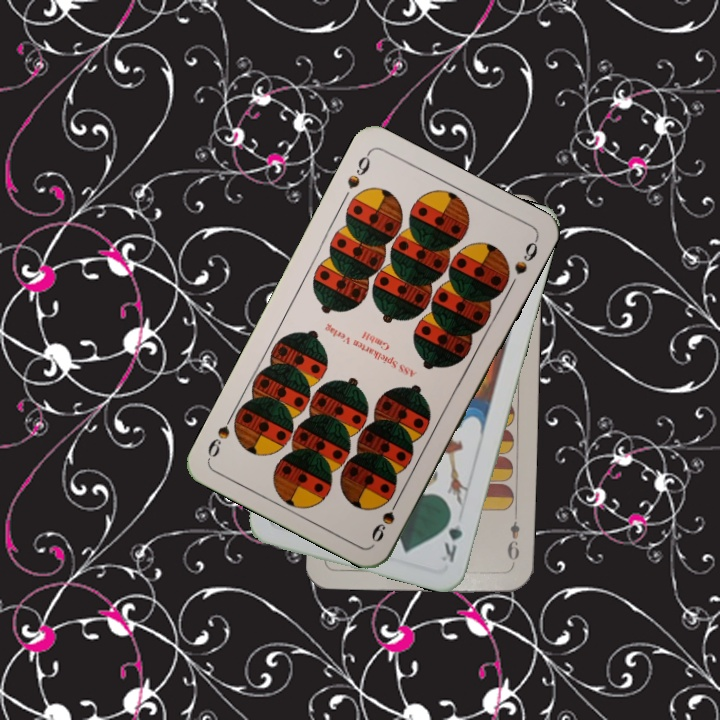E9: (503, 509, 523, 568)
GK: (437, 507, 465, 565)
S9: (367, 491, 404, 545), (343, 148, 373, 192)
